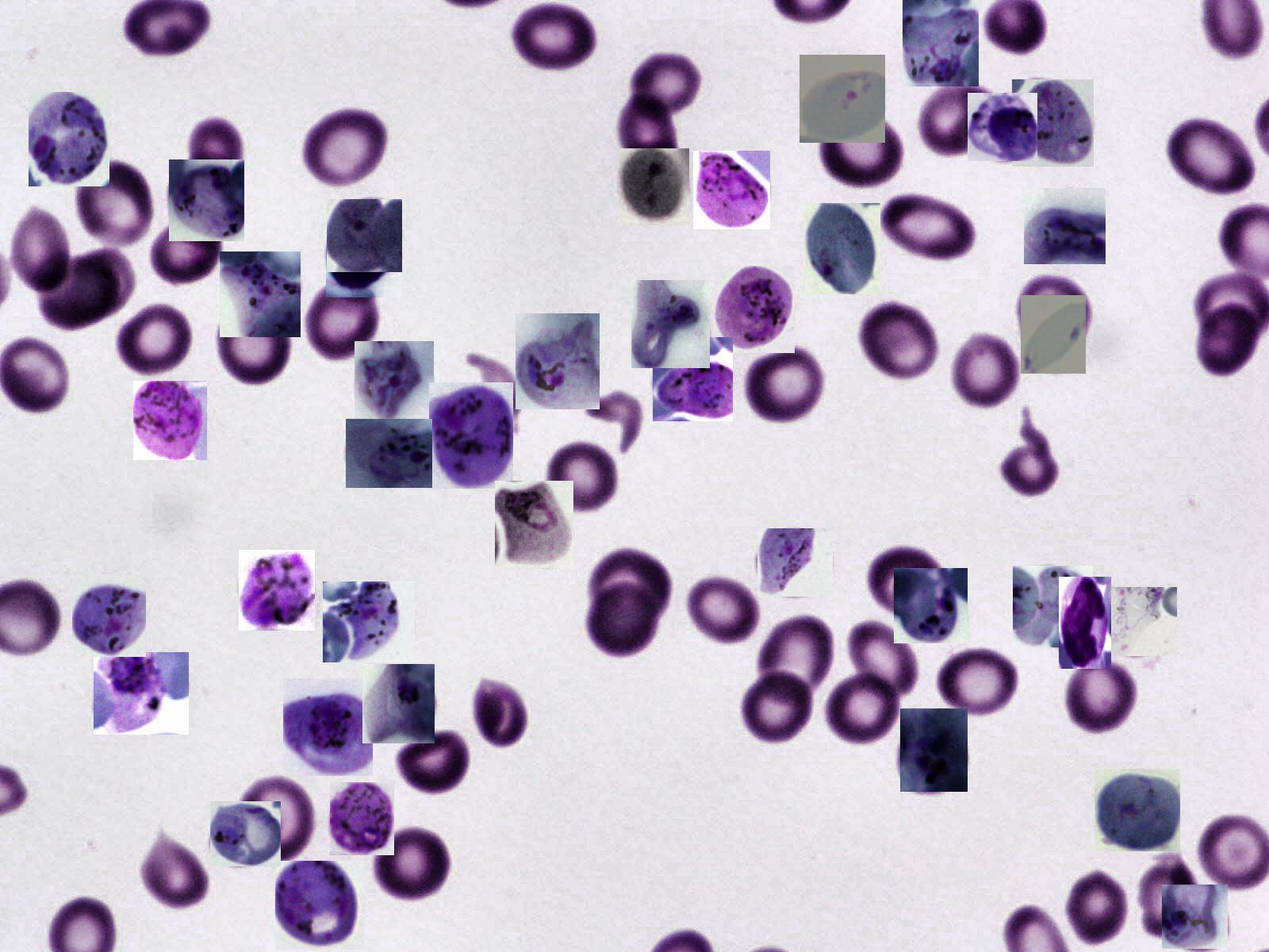Infected: (429, 382, 513, 489), (284, 678, 374, 776), (516, 313, 600, 409), (275, 861, 364, 950), (94, 652, 189, 735), (799, 55, 885, 143), (29, 92, 109, 186), (323, 582, 415, 662), (1012, 79, 1094, 167), (714, 266, 795, 353), (220, 251, 301, 337), (631, 280, 710, 368), (1095, 770, 1180, 851), (805, 203, 880, 294), (495, 481, 573, 568), (653, 337, 733, 421), (903, 0, 979, 86), (1013, 566, 1093, 647), (355, 341, 434, 421), (1024, 188, 1106, 264), (239, 550, 315, 631), (169, 159, 244, 241), (72, 575, 146, 657), (693, 151, 770, 229), (346, 419, 432, 488), (133, 381, 207, 460), (362, 664, 435, 743), (900, 709, 968, 793), (326, 223, 402, 298), (894, 568, 968, 643), (327, 199, 402, 272), (618, 148, 689, 225), (1100, 587, 1177, 656), (757, 528, 833, 597), (1021, 295, 1086, 374), (1059, 577, 1111, 669), (968, 93, 1037, 161), (330, 782, 394, 855), (210, 801, 281, 866), (1162, 885, 1228, 949)
Uninfected: (753, 616, 836, 713), (301, 106, 391, 192), (1165, 114, 1256, 199), (817, 107, 905, 192), (878, 190, 974, 266), (853, 305, 940, 388), (743, 343, 827, 428), (213, 296, 290, 388), (1061, 648, 1137, 741), (914, 81, 1004, 158), (303, 274, 381, 362), (72, 163, 152, 248), (936, 644, 1021, 724), (31, 257, 120, 333), (510, 0, 596, 77), (114, 299, 193, 382), (237, 778, 314, 863), (739, 666, 818, 747), (6, 205, 74, 298), (371, 824, 450, 903), (999, 405, 1067, 495), (628, 46, 704, 126), (588, 550, 667, 626), (820, 673, 899, 748), (139, 831, 211, 913), (146, 218, 223, 294), (1133, 859, 1202, 941), (1017, 274, 1091, 350), (588, 581, 661, 658), (685, 572, 759, 647), (865, 545, 943, 616), (1194, 301, 1260, 381), (550, 441, 619, 516), (849, 620, 915, 698), (615, 96, 680, 175), (389, 727, 466, 793), (1062, 873, 1129, 947), (67, 248, 136, 319), (468, 678, 532, 754), (185, 113, 246, 192), (952, 334, 1016, 406)
